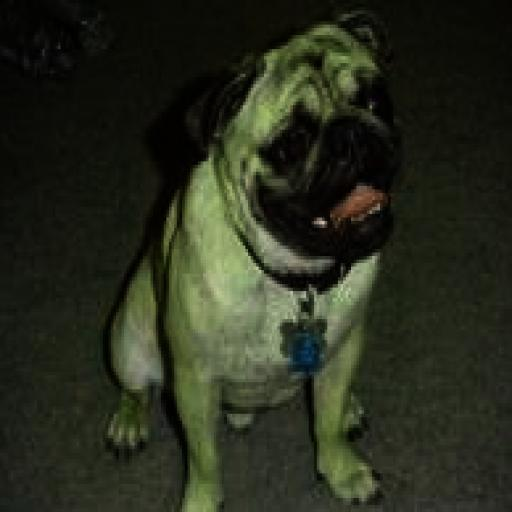dog_face: (196, 6, 402, 268)
